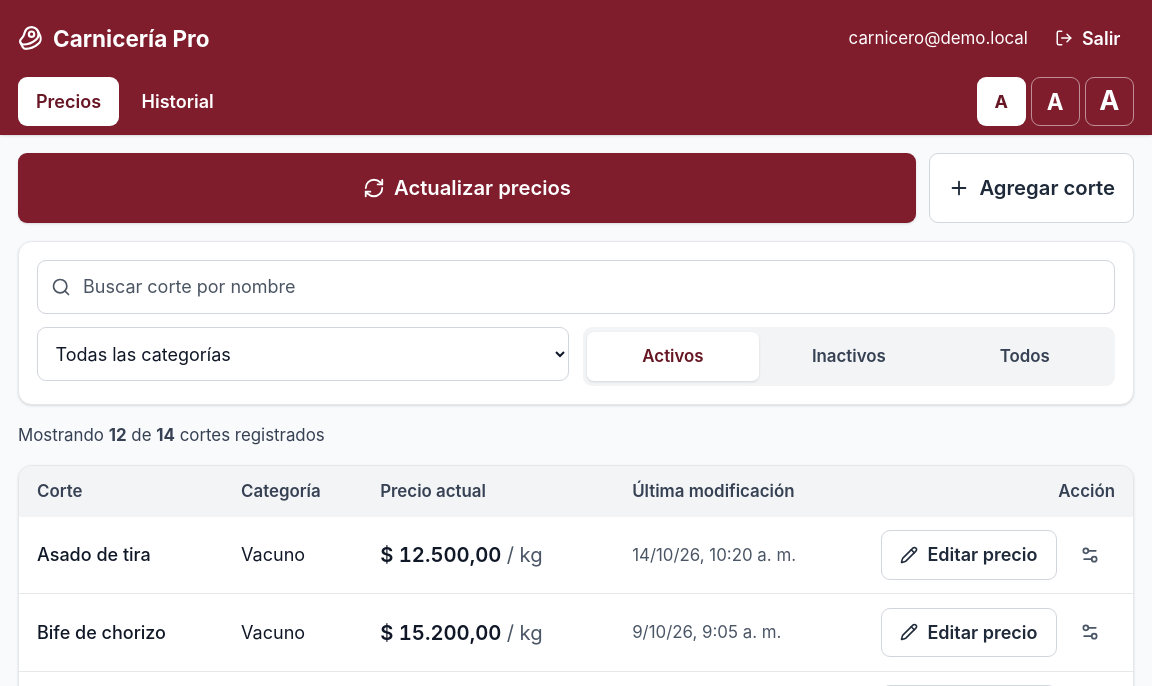
Scenario: actualización masiva › valida el porcentaje antes de mostrar la vista previa
Click the button "Actualizar precios". click: coordinates (467, 188)
box: left=18, top=153, right=916, bottom=222
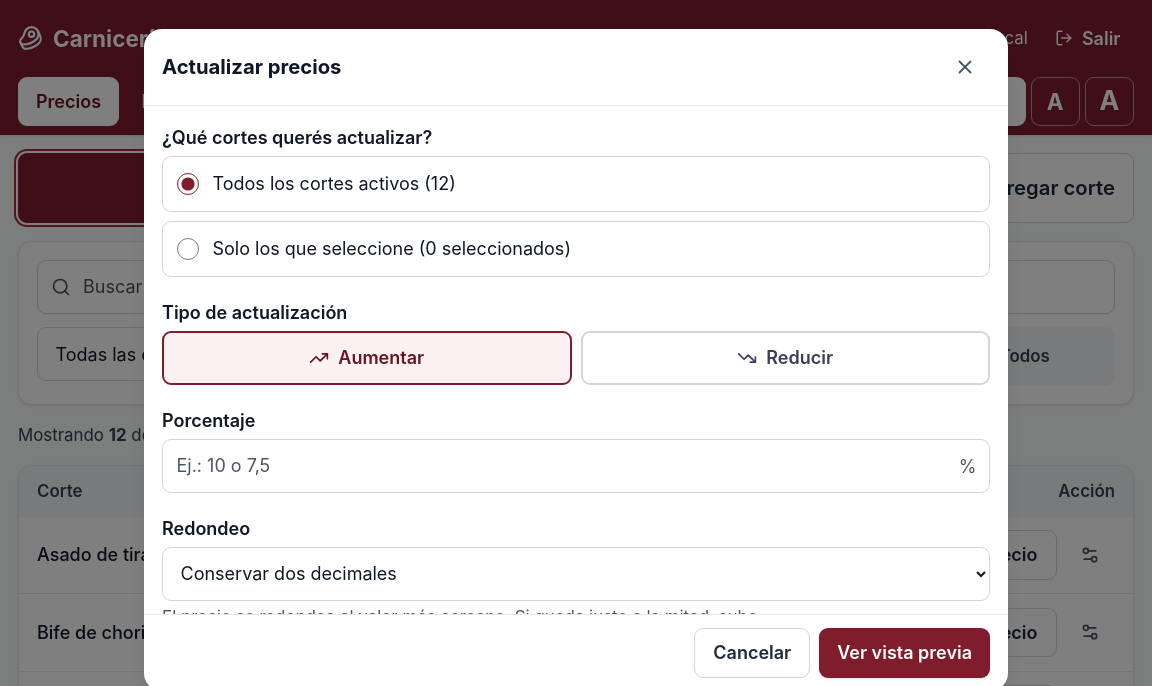
Click the button "Ver vista previa". click: coordinates (905, 653)
box: left=819, top=628, right=990, bottom=678
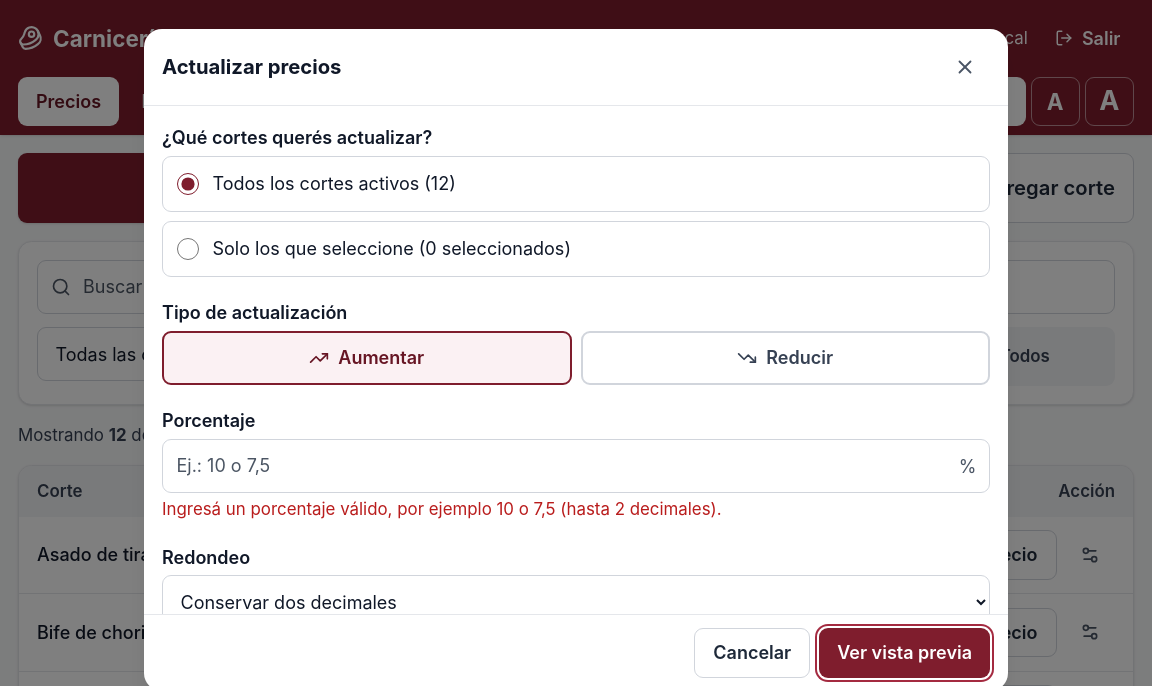
Expected: the message shows "porcentaje válido", left=162, top=499, right=722, bottom=519
